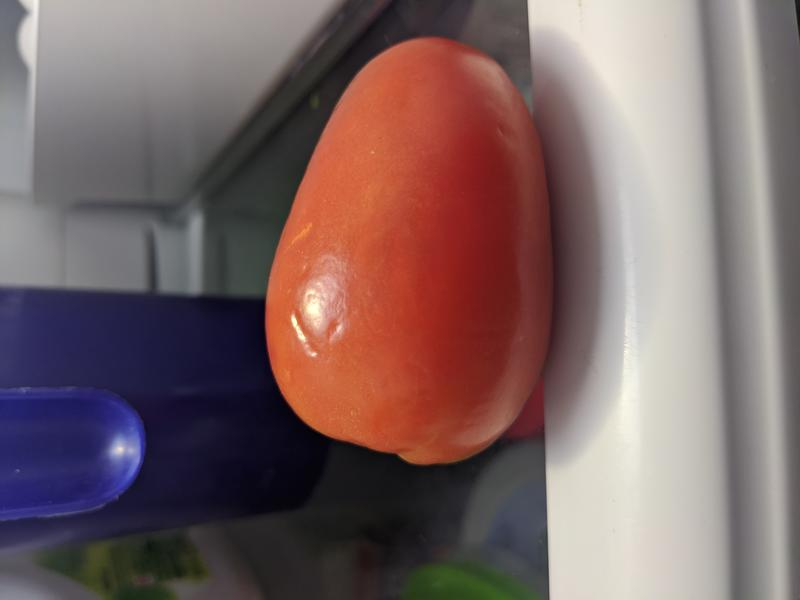tomato: (264, 36, 556, 466)
